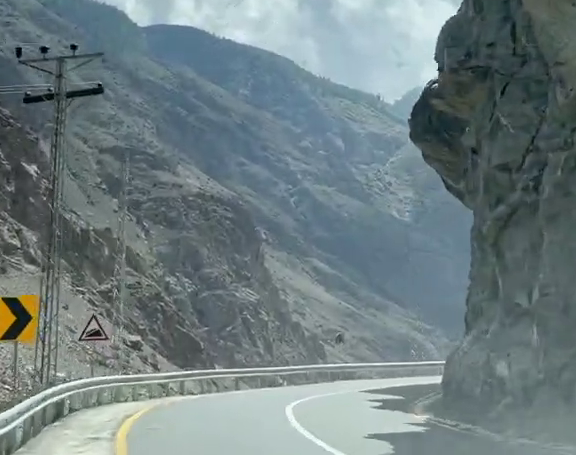stright: (102, 337, 454, 455)
